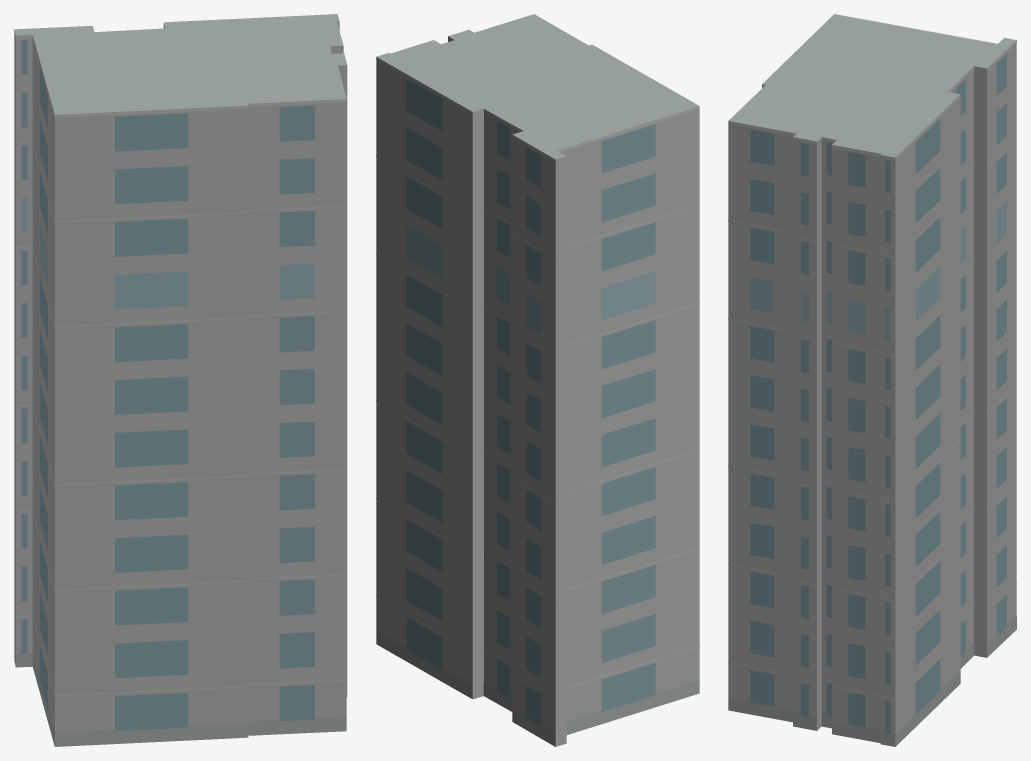
Rendered from survey-upis-32979673.glb.
The picture shows the model from 3 angles, left to right: view 1: azimuth 30°, elevation 25°; view 2: azimuth 150°, elevation 25°; view 3: azimuth 270°, elevation 25°; orthographic projection. The views are drawn at different scales.
Parts seen in each view (by area): view 1: survey-upis-32979673.tmp; view 2: survey-upis-32979673.tmp; view 3: survey-upis-32979673.tmp.
Boxes of the visible parts, box(x1,y1,x2,y2) form: survey-upis-32979673.tmp: box(14, 14, 347, 746); survey-upis-32979673.tmp: box(376, 14, 699, 746); survey-upis-32979673.tmp: box(728, 14, 1016, 746).
Size of the model in its own units: 24.98 by 47.8 by 21.23.
